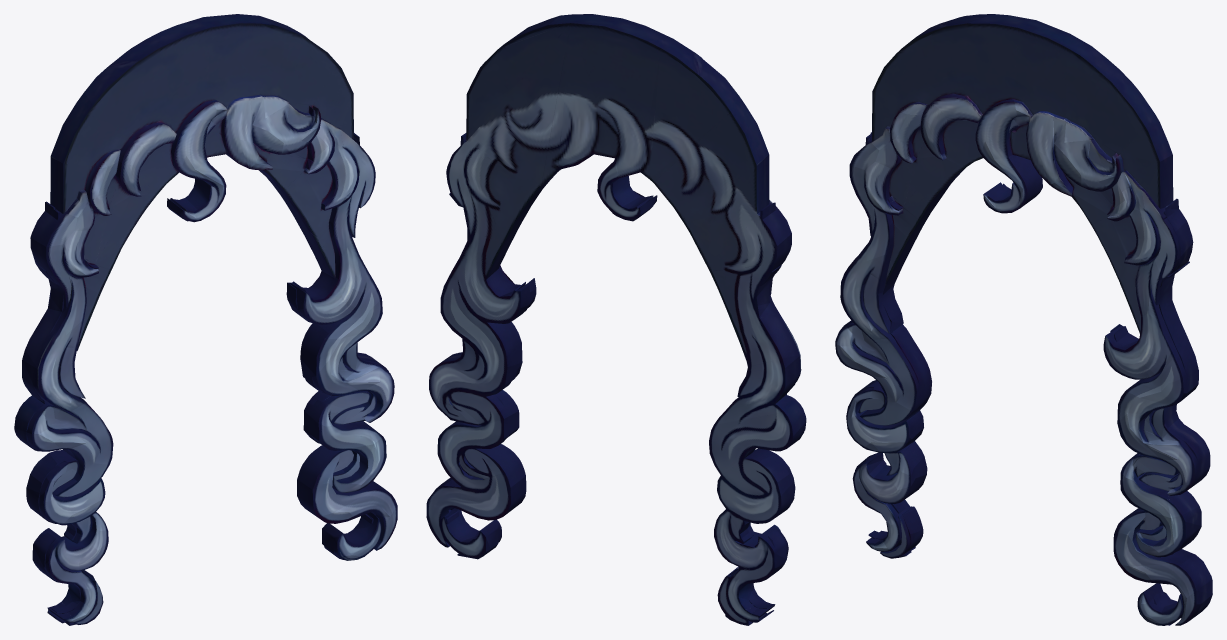
Rendered from nerith_f-meche-5-boucles-face.glb.
The picture shows the model from 3 angles, left to right: view 1: azimuth 30°, elevation 25°; view 2: azimuth 150°, elevation 25°; view 3: azimuth 330°, elevation 25°; orthographic projection.
Visible parts, largest first — view 1: geometry_0; view 2: geometry_0; view 3: geometry_0.
Boxes of the visible parts, x1,y1,x2,y2 form: geometry_0: (14, 14, 397, 625); geometry_0: (426, 14, 806, 625); geometry_0: (835, 14, 1212, 625).
Bounding box in the file's own units: 1.29 × 1.9 × 0.1104.
Materials: 1 (1 with a texture image).
